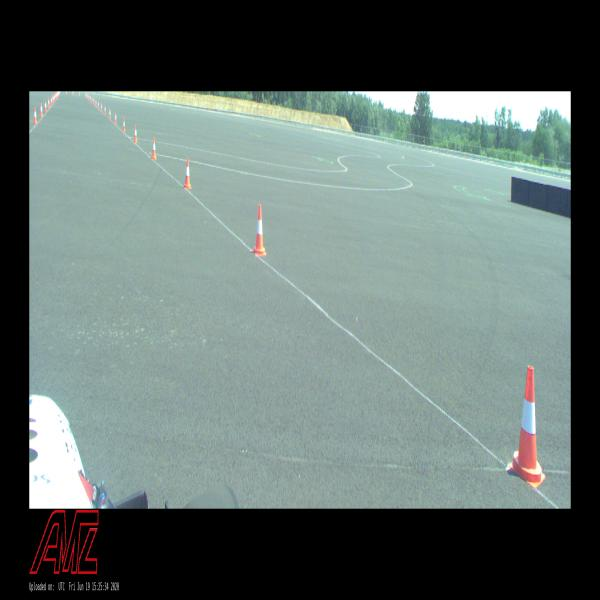orange_cone: (509, 364, 545, 488), (252, 204, 266, 256), (184, 158, 192, 189), (151, 136, 157, 159), (33, 107, 38, 124), (134, 125, 138, 143), (122, 117, 126, 132), (39, 102, 43, 116), (114, 112, 117, 124), (44, 100, 47, 112), (47, 98, 50, 108), (50, 96, 53, 106), (97, 100, 100, 109), (109, 108, 111, 118), (100, 102, 102, 111), (104, 105, 106, 114), (52, 94, 54, 102), (95, 99, 97, 106), (91, 96, 93, 102), (93, 98, 95, 104)
